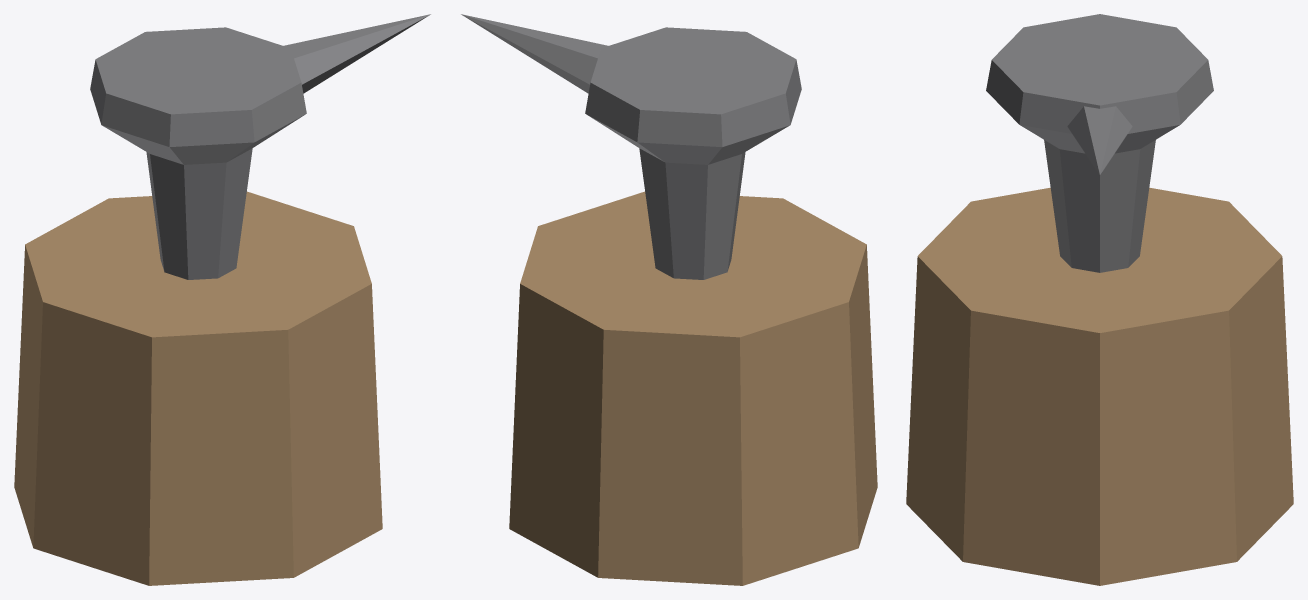
Rendered from prop-raising-stake-ar1.fbx.
The picture shows the model from 3 angles, left to right: view 1: azimuth 30°, elevation 25°; view 2: azimuth 150°, elevation 25°; view 3: azimuth 270°, elevation 25°; orthographic projection.
Parts seen in each view (by area): view 1: prop-raising-stake-ar1; view 2: prop-raising-stake-ar1; view 3: prop-raising-stake-ar1.
Part boxes in pixels (x1,y1,x2,y2): prop-raising-stake-ar1: (14,14,430,585); prop-raising-stake-ar1: (461,14,877,585); prop-raising-stake-ar1: (906,14,1293,585).
Bounding box in the file's own units: 41 × 43 × 34.
